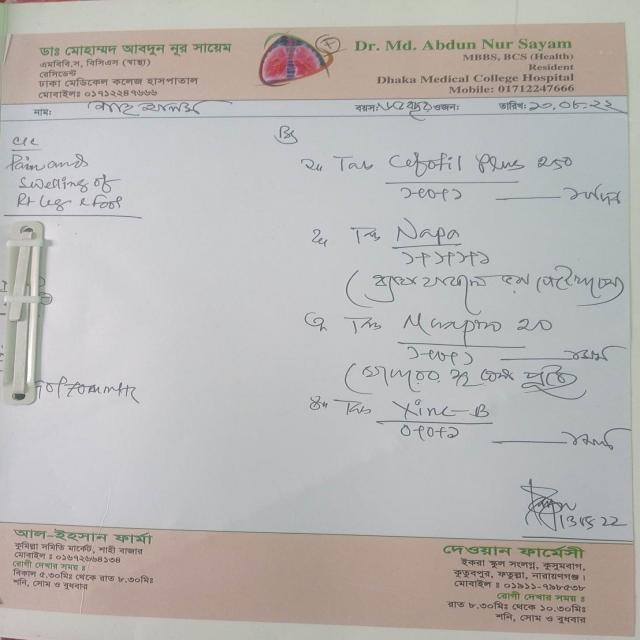Cefotil Plus: (382, 150, 524, 180)
Maxpro: (403, 311, 508, 342)
Napa: (387, 217, 464, 245)
Xinc B: (390, 394, 492, 424)
